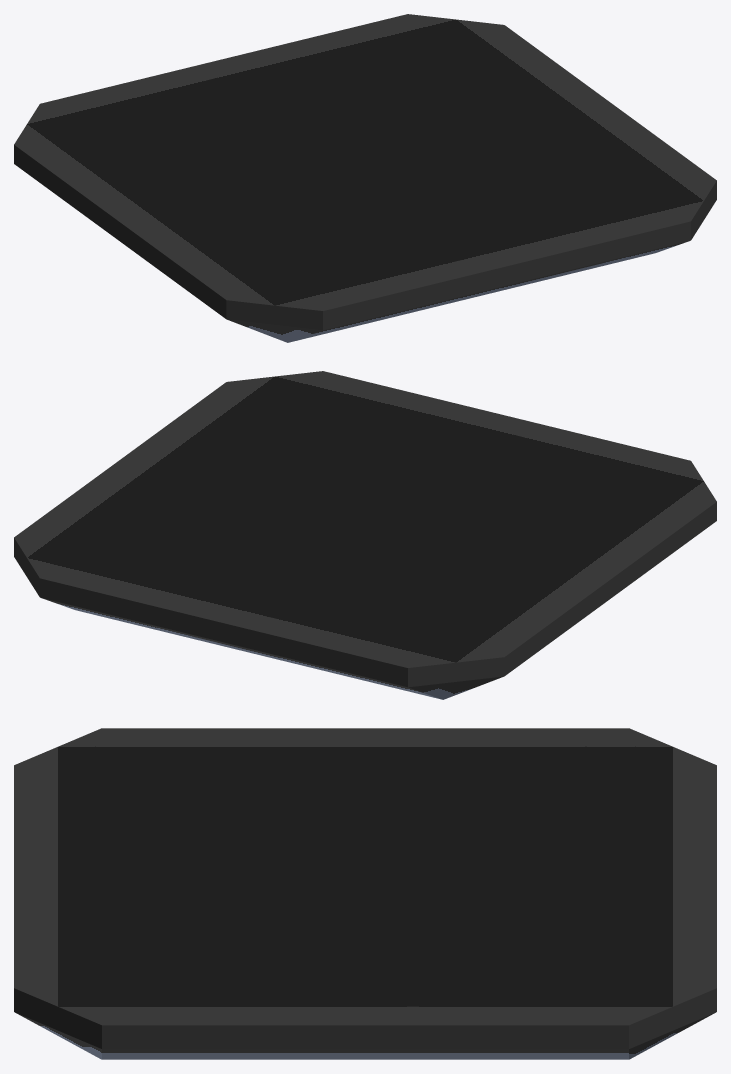
Rendered from camera-monitor.gltf.
The picture shows the model from 3 angles, top to bottom: view 1: azimuth 30°, elevation 25°; view 2: azimuth 150°, elevation 25°; view 3: azimuth 270°, elevation 25°; orthographic projection. The views are drawn at different scales.
Visible parts, largest first — view 1: beveled_cuboid; view 2: beveled_cuboid; view 3: beveled_cuboid.
Part boxes in pixels (bbox=[...]): beveled_cuboid: bbox=[14, 14, 716, 342]; beveled_cuboid: bbox=[14, 371, 716, 699]; beveled_cuboid: bbox=[14, 728, 716, 1059].
Bounding box in the file's own units: 1 × 0.1125 × 1.
1 material, 1 textured.
